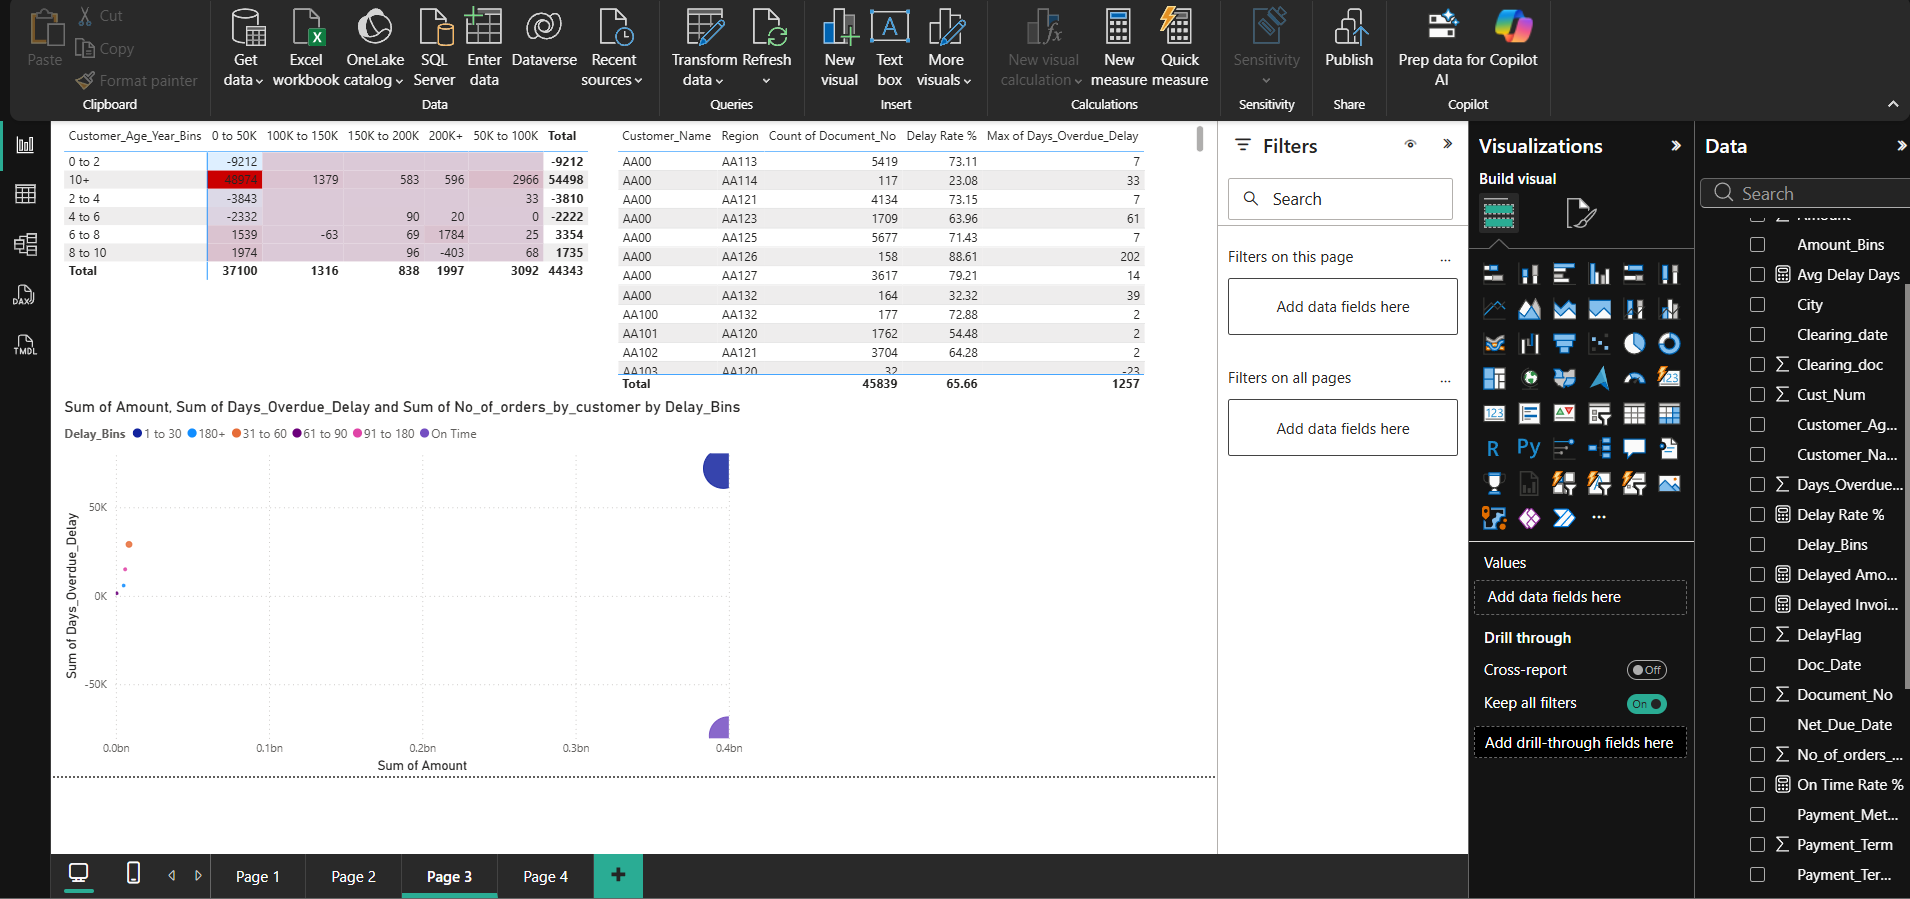

This screenshot's page, from the dashboard's own definition file:
{"tool":"powerbi","page":{"name":"Page 3","canvas":[1280,720],"ordinal":2},"visuals":[{"type":"pivotTable","fields":{"Rows":["SMEDataset.Customer_Age_Year_Bins"],"Columns":["SMEDataset.Amount_Bins"],"Values":["Sum(SMEDataset.Days_Overdue_Delay)"]},"box":[9.6,0,606.5,216.8],"z":0},{"type":"scatterChart","fields":{"X":["Sum(SMEDataset.Amount)"],"Y":["Sum(SMEDataset.Days_Overdue_Delay)"],"Series":["SMEDataset.Delay_Bins"],"Size":["Sum(SMEDataset.No_of_orders_by_customer)"]},"box":[9.6,303.3,754.7,417.2],"z":1},{"type":"tableEx","fields":{"Values":["SMEDataset.Customer_Name","SMEDataset.Region","CountNonNull(SMEDataset.Document_No)","SMEDataset.Delay Rate %","Max(SMEDataset.Days_Overdue_Delay)"]},"box":[616.1,0,654.5,303.3],"z":2}]}

Visuals, with their boxes on the page's 1280x720 design canvas (x1, y1, x2, y2). These are canvas units, not pixel positions in the 1910x899 screenshot, which may show the page scaled, cropped or inside an application window:
pivotTable - SMEDataset.Customer_Age_Year_Bins x SMEDataset.Amount_Bins: [10, 0, 616, 217]
scatterChart - Sum(SMEDataset.Amount) x Sum(SMEDataset.Days_Overdue_Delay): [10, 303, 764, 720]
tableEx - SMEDataset.Customer_Name x SMEDataset.Region: [616, 0, 1271, 303]
